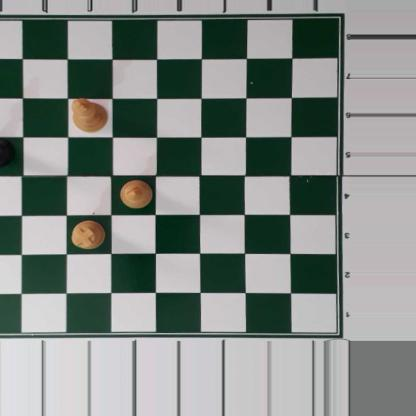black-king: (0, 136, 17, 169)
white-bishop: (119, 179, 154, 209)
white-king: (72, 95, 106, 132)
white-rook: (70, 220, 106, 248)
